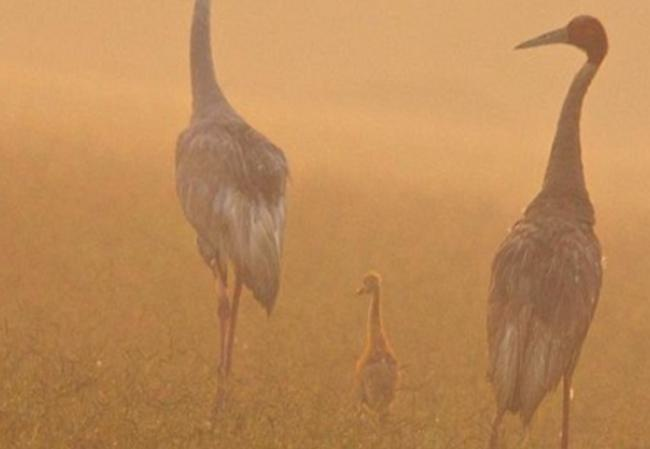crane: (480, 11, 612, 449), (169, 1, 296, 406), (350, 255, 402, 414)
